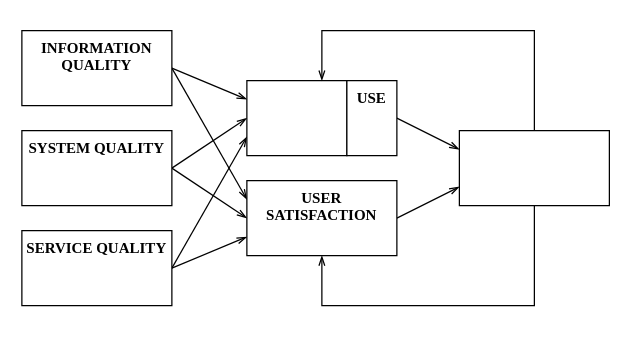
Some shapes in this 631 by 338 pixel diagram are drawn without their labels. Each missing label, with the centre of its shape:
"INTENTION TO USE" belongs at point 296,117.
"NET BENEFITS" belongs at point 533,167.
